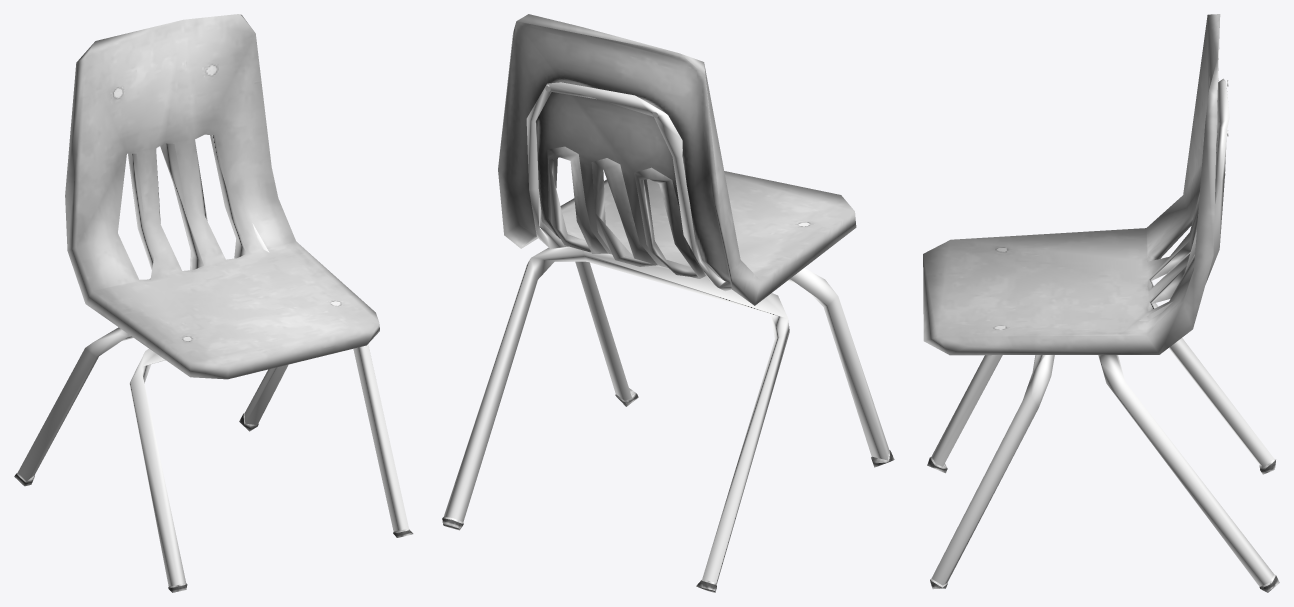
The model's file is shell_chair.glb.
3 views of the same model, side by side, from view 1: azimuth 30°, elevation 25°; view 2: azimuth 150°, elevation 25°; view 3: azimuth 270°, elevation 25° (orthographic). The views are drawn at different scales.
Visible parts, largest first — view 1: shell_chair; view 2: shell_chair; view 3: shell_chair.
Part boxes in pixels (bbox=[...]): shell_chair: bbox=[14, 14, 413, 592]; shell_chair: bbox=[442, 14, 894, 592]; shell_chair: bbox=[923, 14, 1279, 592].
Size of the model in its own units: 0.5658 by 1 by 0.6692.
1 material, 1 textured.
